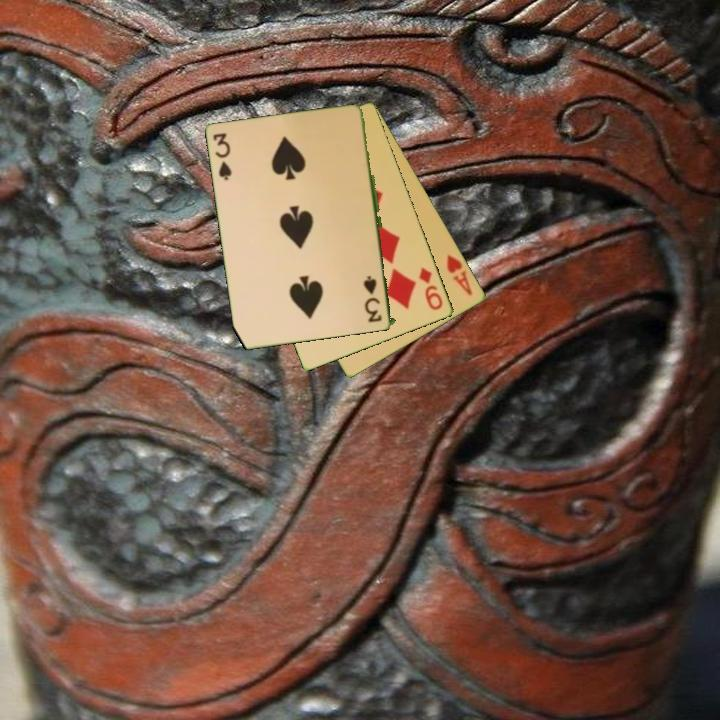3s: (210, 130, 235, 183), (363, 272, 385, 325)
9d: (416, 264, 446, 313)
Ah: (443, 251, 476, 298)
